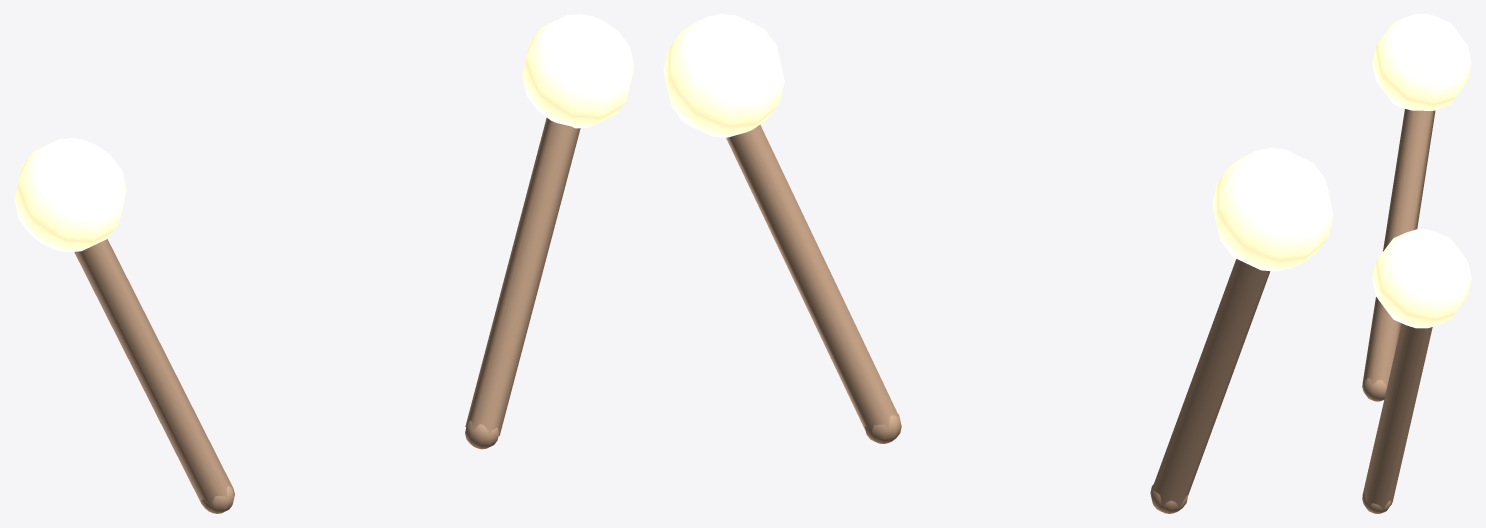
The model's file is Trait_Antennae.fbx.
3 renders of one model, left to right at view 1: azimuth 30°, elevation 25°; view 2: azimuth 150°, elevation 25°; view 3: azimuth 270°, elevation 25°, orthographic. The views are drawn at different scales.
Parts seen in each view (by area): view 1: Antenna, Antenna.001, Antenna_Glow.001, Antenna_Glow; view 2: Antenna, Antenna_Glow.001, Antenna_Glow, Antenna.001; view 3: Antenna_Glow, Antenna_Glow.001, Antenna.001, Antenna, Antenna_Cap.002, Antenna_Cap.
Part boxes in pixels (x1=…): Antenna: x1=465, y1=118, x2=580, y2=435; Antenna.001: x1=74, y1=239, x2=233, y2=506; Antenna_Glow.001: x1=14, y1=138, x2=126, y2=252; Antenna_Glow: x1=522, y1=14, x2=634, y2=128; Antenna: x1=726, y1=124, x2=899, y2=434; Antenna_Glow.001: x1=1212, y1=148, x2=1333, y2=271; Antenna_Glow: x1=663, y1=14, x2=784, y2=137; Antenna.001: x1=1150, y1=259, x2=1270, y2=507; Antenna_Glow: x1=1372, y1=229, x2=1471, y2=328; Antenna_Glow.001: x1=1372, y1=14, x2=1471, y2=110; Antenna.001: x1=1362, y1=109, x2=1435, y2=387; Antenna: x1=1362, y1=323, x2=1432, y2=509; Antenna_Cap.002: x1=1362, y1=378, x2=1386, y2=401; Antenna_Cap: x1=1362, y1=494, x2=1391, y2=513.
Size of the model in its own units: 54.56 by 32.9 by 9.9.
